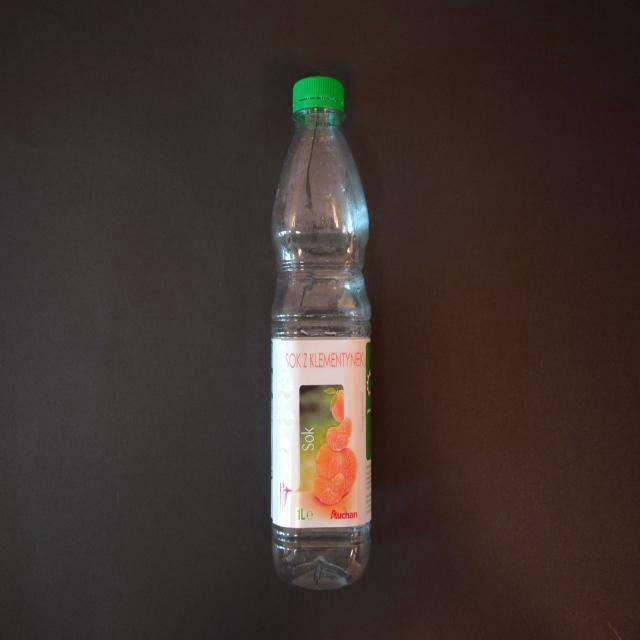bottle: (269, 76, 372, 591)
